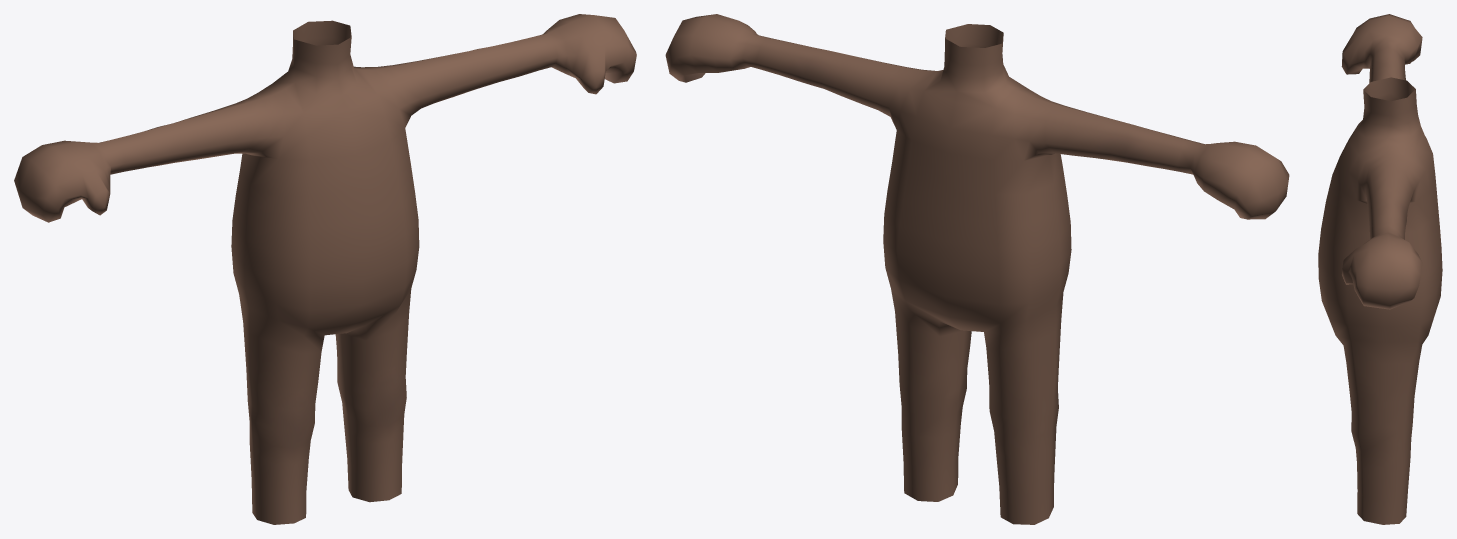
File: Body_Black_3.fbx
The picture shows the model from 3 angles, left to right: view 1: azimuth 30°, elevation 25°; view 2: azimuth 150°, elevation 25°; view 3: azimuth 270°, elevation 25°; orthographic projection. The views are drawn at different scales.
Visible parts, largest first — view 1: Body_Black_3; view 2: Body_Black_3; view 3: Body_Black_3.
Boxes of the visible parts, x1,y1,x2,y2 form: Body_Black_3: (14, 14, 636, 524); Body_Black_3: (665, 14, 1289, 524); Body_Black_3: (1318, 14, 1442, 524).
Bounding box in the file's own units: 130 × 95.87 × 26.46.
